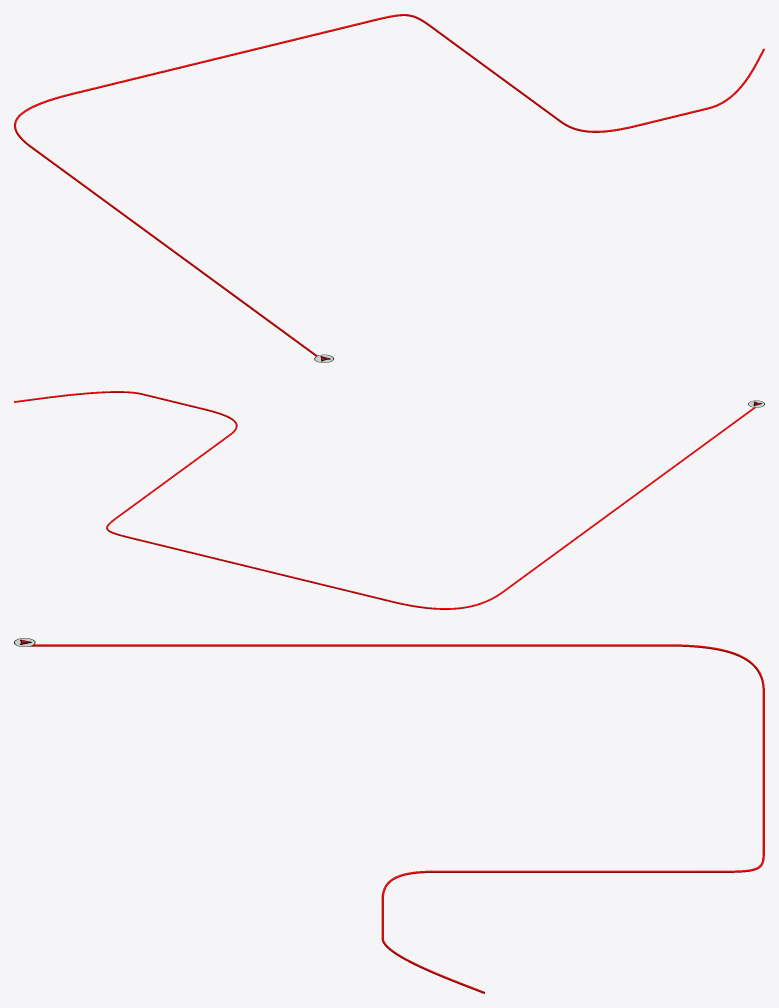
The model's file is route_77be2074-de79-4e48-8889-7c4021b5b134_1783849638308_single.glb.
3 renders of one model, top to bottom at view 1: azimuth 30°, elevation 25°; view 2: azimuth 150°, elevation 25°; view 3: azimuth 270°, elevation 25°, orthographic. The views are drawn at different scales.
Parts seen in each view (by area): view 1: Station 2.002; view 2: Station 2.002; view 3: Station 2.002.
Part boxes in pixels (x1,y1,x2,y2): Station 2.002: [14, 14, 764, 356]; Station 2.002: [14, 391, 755, 609]; Station 2.002: [30, 644, 764, 993].
Size of the model in its own units: 15.82 by 0.091 by 14.25.
